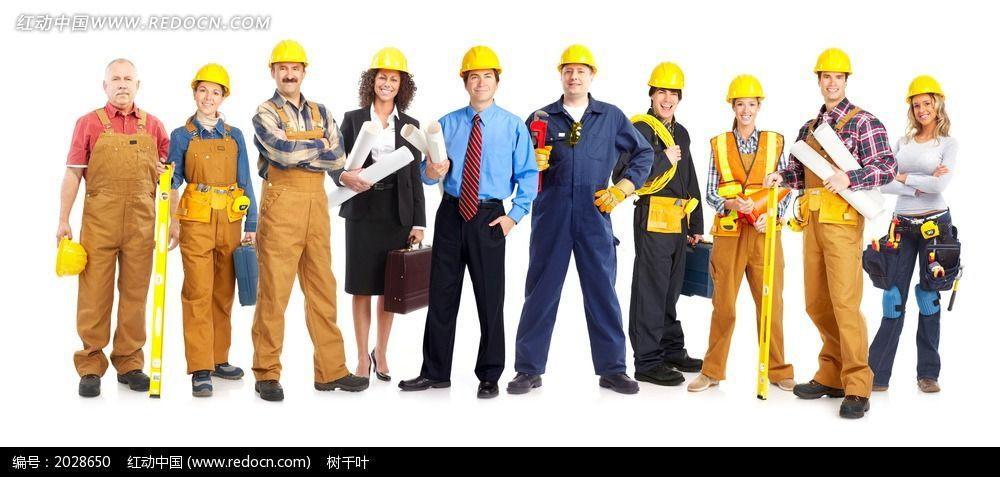helmet: (54, 234, 89, 279), (555, 45, 601, 77), (459, 46, 504, 78), (193, 64, 235, 98), (265, 40, 309, 70), (814, 47, 857, 77), (367, 46, 410, 76), (723, 76, 769, 104), (904, 77, 949, 102), (648, 64, 686, 93)
